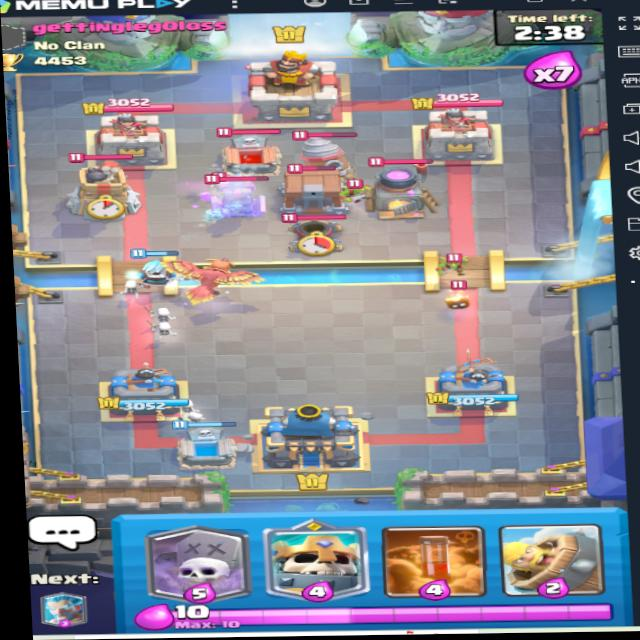bomb-tower: (59, 149, 145, 217)
fire-spirit: (442, 283, 473, 311)
furnace: (366, 153, 439, 221)
goblin: (339, 173, 378, 203), (434, 246, 471, 274)
goblin-cage: (270, 162, 351, 216)
goblin-drill: (292, 124, 365, 178)
mortar: (277, 211, 348, 255)
tesla: (194, 167, 269, 221)
tombstone: (211, 124, 288, 173)
